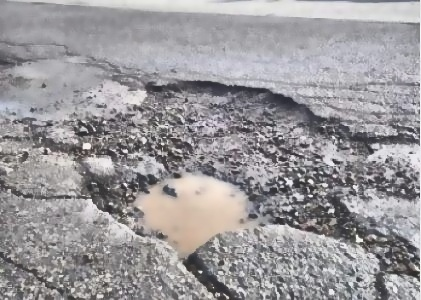pothole: (69, 75, 381, 264)
